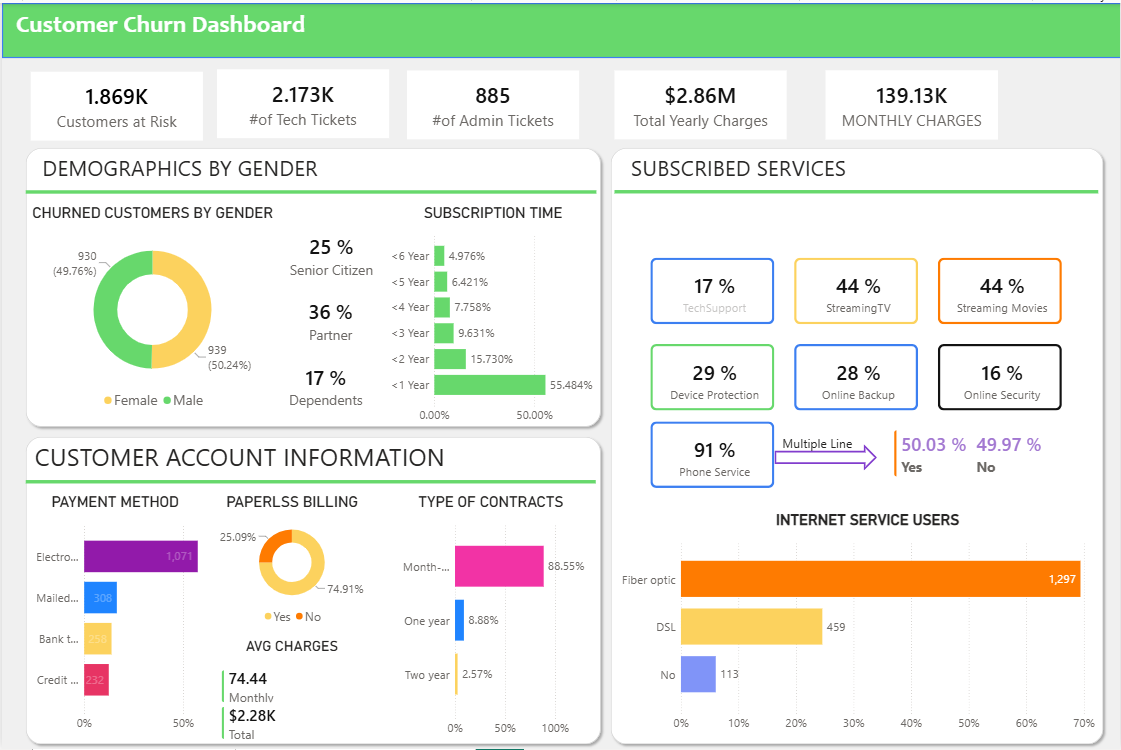

The page's visual inventory and layout, read from the dashboard file:
{"tool":"powerbi","page":{"name":"Customer Churn Dashboard","canvas":[1950,1300],"ordinal":1},"visuals":[{"type":"shape","box":[32.7,747.2,1019.4,553.3],"z":0},{"type":"shape","box":[32.7,244,1019.4,503.2],"z":1000},{"type":"shape","box":[1052.1,244,875.7,1056.5],"z":2000},{"type":"cardVisual","fields":{"Data":["Churn-Dataset.Number of Admin Tickets"]},"box":[705.8,117.6,300,120],"z":3000},{"type":"cardVisual","fields":{"Data":["Sum(Churn-Dataset.MonthlyCharges)"]},"box":[1435.5,117.6,300,120],"z":4000},{"type":"cardVisual","fields":{"Data":["Churn-Dataset.Total Yearly Charges"]},"box":[1067.4,117.6,300,120],"z":5000},{"type":"clusteredBarChart","title":"INTERNET SERVICE USERS","fields":{"Category":["Churn-Dataset.InternetService"],"Y":["CountNonNull(Churn-Dataset.CustomerID)"]},"box":[1067.4,884.4,882.2,407.3],"z":6000},{"type":"donutChart","title":"PAPERLSS BILLING","fields":{"Category":["Churn-Dataset.PaperlessBilling"],"Y":["CountNonNull(Churn-Dataset.CustomerID)"]},"box":[352.9,853.9,305,237.4],"z":7000},{"type":"clusteredBarChart","title":"PAYMENT METHOD","fields":{"Category":["Churn-Dataset.PaymentMethod"],"Y":["CountNonNull(Churn-Dataset.CustomerID)"]},"box":[19.6,853.9,355.1,437.8],"z":8000},{"type":"clusteredBarChart","title":"TYPE OF CONTRACTS","fields":{"Category":["Churn-Dataset.Contract"],"Y":["CountNonNull(Churn-Dataset.CustomerID)"]},"box":[657.4,853.9,387.7,446.6],"z":9000},{"type":"donutChart","title":"  CHURNED CUSTOMERS BY GENDER","fields":{"Y":["CountNonNull(Churn-Dataset.CustomerID)"],"Category":["Churn-Dataset.Gender"]},"box":[41.4,350.7,442.2,366],"z":10000},{"type":"cardVisual","fields":{"Data":["Churn-Dataset.Dependents%"]},"box":[444.4,607.7,240,120],"z":11000},{"type":"cardVisual","fields":{"Data":["Churn-Dataset.Partner%"]},"box":[473.1,494.9,200.4,119.8],"z":12000},{"type":"cardVisual","fields":{"Data":["Churn-Dataset.Senior Citizen%"]},"box":[463.4,385.7,220,108.9],"z":13000},{"type":"clusteredBarChart","title":"SUBSCRIPTION TIME","fields":{"Category":["Churn-Dataset.Subscription Time"],"Y":["CountNonNull(Churn-Dataset.CustomerID)"]},"box":[645.3,351.8,422.1,405.1],"z":14000},{"type":"cardVisual","fields":{"Data":["Churn-Dataset.TechSupport%"]},"box":[1113.1,426.9,250,150],"z":15000},{"type":"cardVisual","fields":{"Data":["Churn-Dataset.StreamingTV%"]},"box":[1363.6,426.9,250,150],"z":16000},{"type":"cardVisual","fields":{"Data":["Churn-Dataset.StreamingMovies%"]},"box":[1614.1,426.9,250,150],"z":17000},{"type":"cardVisual","fields":{"Data":["Churn-Dataset.DeviceProtection%"]},"box":[1113.1,577.2,250,150],"z":18000},{"type":"cardVisual","fields":{"Data":["Churn-Dataset.OnlineBackup%"]},"box":[1363.6,577.2,250,150],"z":19000},{"type":"cardVisual","fields":{"Data":["Churn-Dataset.PhoneService%"]},"box":[1113.1,712.3,250,150],"z":20000},{"type":"shape","box":[0,0,1950.5,96],"z":21000},{"type":"cardVisual","fields":{"Data":["Churn-Dataset.OnlineSecurity%"]},"box":[1614.1,577.2,250,150],"z":22000},{"type":"cardVisual","title":"AVG CHARGES","fields":{"Data":["Churn-Dataset.Avg-MonthlyCharges","Churn-Dataset.Avg Total"]},"box":[366,1106.6,278.8,193.9],"z":23000},{"type":"textbox","box":[0,4.4,553.3,91.5],"z":24000},{"type":"cardVisual","fields":{"Data":["Churn-Dataset.Multiple Lines Yes %"]},"box":[1537.9,727.6,174.3,115.4],"z":25000},{"type":"cardVisual","fields":{"Data":["Churn-Dataset.Multiple Lines No %"]},"box":[1668.6,727.6,196,115.4],"z":26000},{"type":"shape","box":[1346.2,768.9,178.6,45.7],"z":27000},{"type":"textbox","box":[1354.9,747.2,159,43.6],"z":28000},{"type":"shape","box":[41.2,271.7,994.7,114],"z":29000},{"type":"shape","box":[1067.4,237.4,843,183],"z":30000},{"type":"shape","box":[41.4,742.8,993.3,183],"z":31000},{"type":"textbox","box":[65.3,257,605.6,78.4],"z":32000},{"type":"textbox","box":[1091.3,257,605.6,78.4],"z":33000},{"type":"textbox","box":[52.3,755.9,736.3,78.4],"z":34000},{"type":"cardVisual","fields":{"Data":["Churn-Dataset.Number of Tech Tickets"]},"box":[373.6,116.4,300,120],"z":35000},{"type":"cardVisual","fields":{"Data":["Churn-Dataset.Customers at Risk"]},"box":[50.9,118.9,300,120],"z":36000}]}

Visuals, with their boxes in screenshot pixels (x1, y1, x2, y2), scaled from the page's 1950x1300 canvas onto the 1121x750 screenshot:
shape: box=[19, 431, 605, 749]
shape: box=[19, 141, 605, 431]
shape: box=[605, 141, 1108, 749]
cardVisual - Churn-Dataset.Number of Admin Tickets: box=[406, 68, 578, 137]
cardVisual - Sum(Churn-Dataset.MonthlyCharges): box=[825, 68, 998, 137]
cardVisual - Churn-Dataset.Total Yearly Charges: box=[614, 68, 786, 137]
"INTERNET SERVICE USERS" clusteredBarChart: box=[614, 510, 1120, 745]
"PAPERLSS BILLING" donutChart: box=[203, 493, 378, 630]
"PAYMENT METHOD" clusteredBarChart: box=[11, 493, 215, 745]
"TYPE OF CONTRACTS" clusteredBarChart: box=[378, 493, 601, 749]
"  CHURNED CUSTOMERS BY GENDER" donutChart: box=[24, 202, 278, 413]
cardVisual - Churn-Dataset.Dependents%: box=[255, 351, 393, 420]
cardVisual - Churn-Dataset.Partner%: box=[272, 286, 387, 355]
cardVisual - Churn-Dataset.Senior Citizen%: box=[266, 223, 393, 285]
"SUBSCRIPTION TIME" clusteredBarChart: box=[371, 203, 614, 437]
cardVisual - Churn-Dataset.TechSupport%: box=[640, 246, 784, 333]
cardVisual - Churn-Dataset.StreamingTV%: box=[784, 246, 928, 333]
cardVisual - Churn-Dataset.StreamingMovies%: box=[928, 246, 1072, 333]
cardVisual - Churn-Dataset.DeviceProtection%: box=[640, 333, 784, 420]
cardVisual - Churn-Dataset.OnlineBackup%: box=[784, 333, 928, 420]
cardVisual - Churn-Dataset.PhoneService%: box=[640, 411, 784, 497]
shape: box=[0, 0, 1120, 55]
cardVisual - Churn-Dataset.OnlineSecurity%: box=[928, 333, 1072, 420]
"AVG CHARGES" cardVisual: box=[210, 638, 371, 749]
textbox: box=[0, 3, 318, 55]
cardVisual - Churn-Dataset.Multiple Lines Yes %: box=[884, 420, 984, 486]
cardVisual - Churn-Dataset.Multiple Lines No %: box=[959, 420, 1072, 486]
shape: box=[774, 444, 877, 470]
textbox: box=[779, 431, 870, 456]
shape: box=[24, 157, 596, 223]
shape: box=[614, 137, 1098, 243]
shape: box=[24, 429, 595, 534]
textbox: box=[38, 148, 386, 193]
textbox: box=[627, 148, 975, 193]
textbox: box=[30, 436, 453, 481]
cardVisual - Churn-Dataset.Number of Tech Tickets: box=[215, 67, 387, 136]
cardVisual - Churn-Dataset.Customers at Risk: box=[29, 69, 202, 138]
